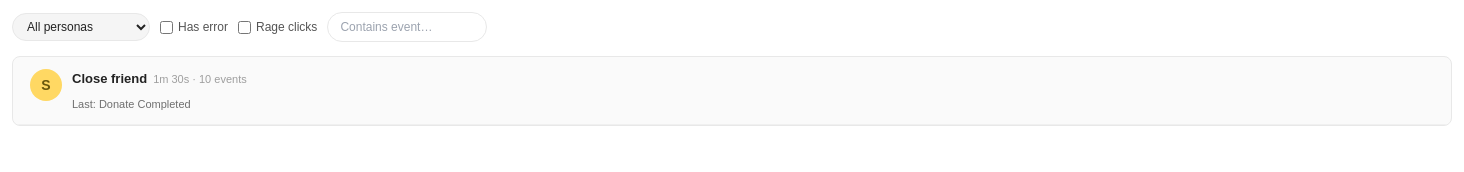
Test case: ReplaySurface — CB-40 click and filter fixes › "Has error" checkbox OFF after ON restores the session row
Note: Toggle ON
Click the checkbox labelled "Has error": (166, 27) [160,20,173,34]
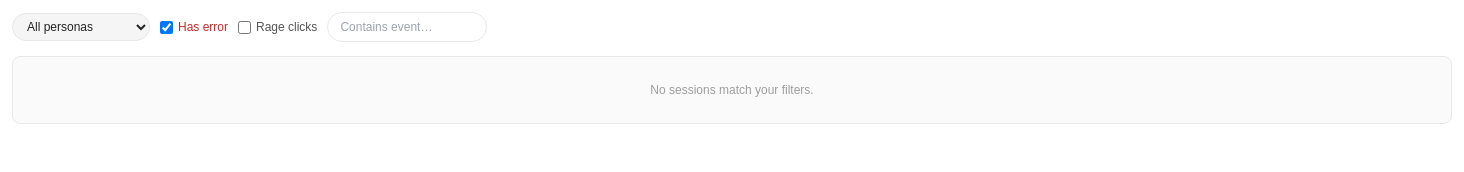
Note: Toggle OFF
Click the checkbox labelled "Has error": (166, 27) [160,20,173,34]
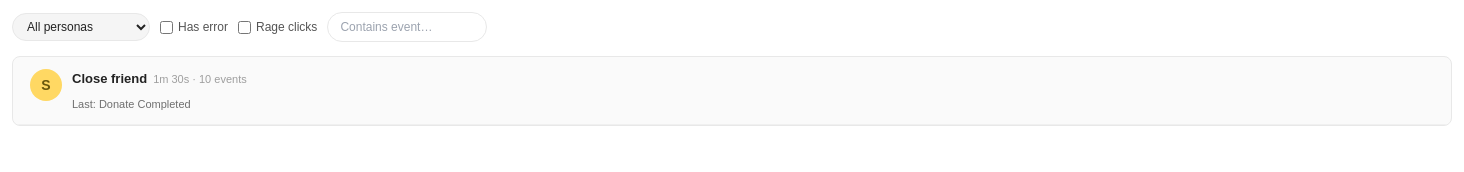
Check: the option with aria-label "sess-001" is shown, box [13,57,1451,125]
